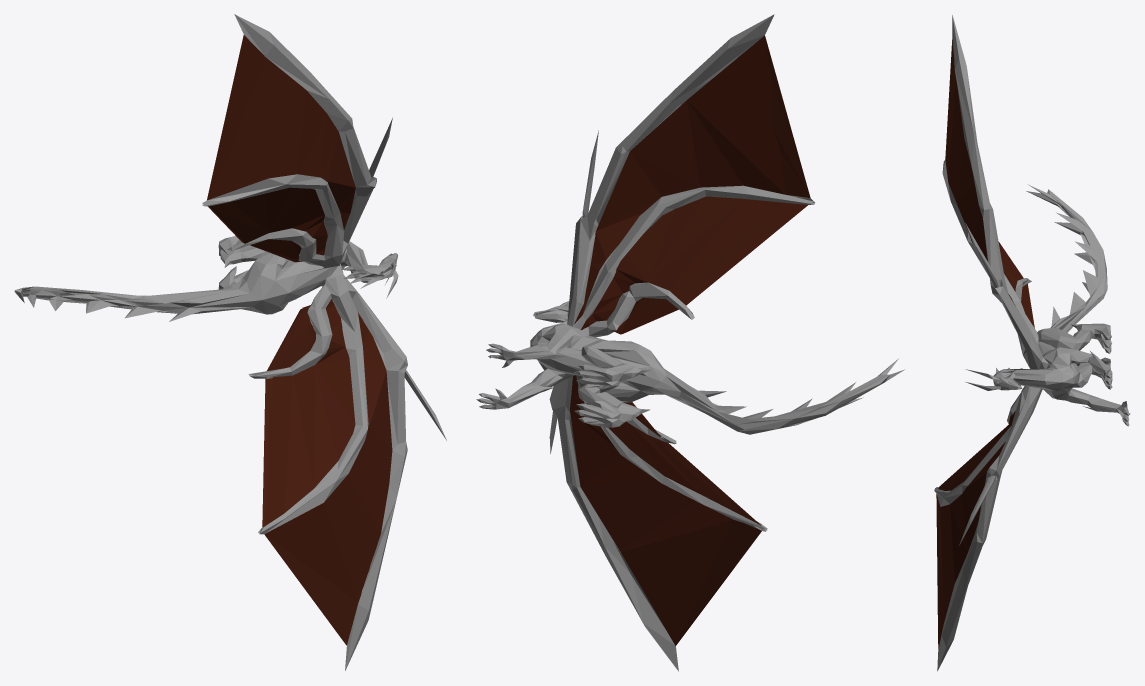
File: Dragon_2.5_For_Animations_000370.obj
3 renders of one model, left to right at view 1: azimuth 30°, elevation 25°; view 2: azimuth 150°, elevation 25°; view 3: azimuth 270°, elevation 25°, orthographic. The views are drawn at different scales.
Visible parts, largest first — view 1: Cube_Cube.004; view 2: Cube_Cube.004; view 3: Cube_Cube.004.
Boxes of the visible parts, left/top/right/bottom form: Cube_Cube.004: left=14, top=14, right=446, bottom=670; Cube_Cube.004: left=476, top=14, right=904, bottom=671; Cube_Cube.004: left=934, top=15, right=1130, bottom=671.
Size of the model in its own units: 88.6 by 149 by 43.17.
